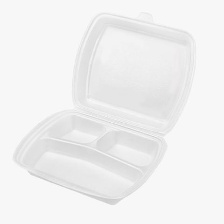foam_box: (8, 5, 203, 208)
